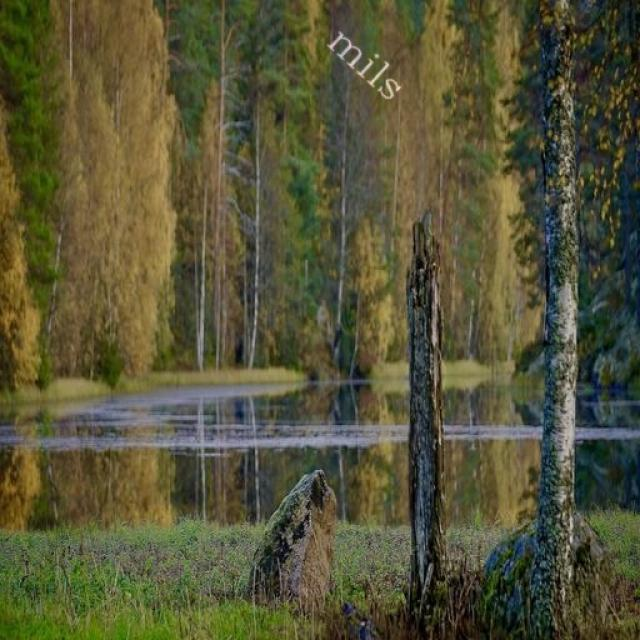watermark: (316, 14, 418, 110)
